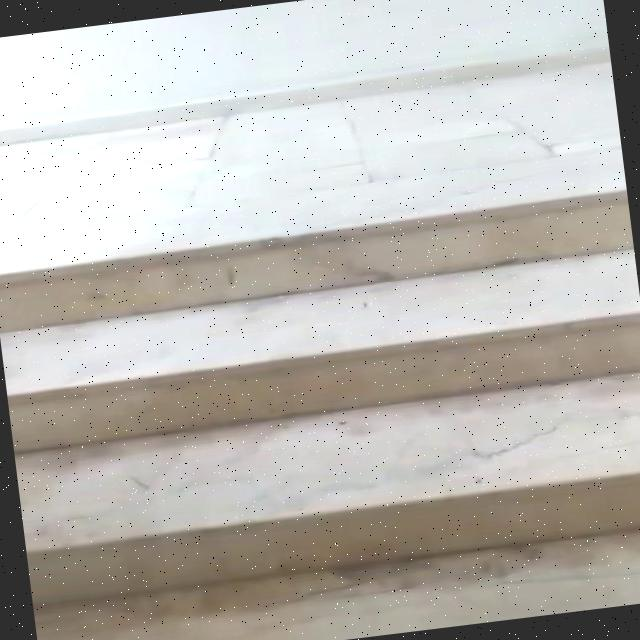stairs: (0, 49, 640, 612)
